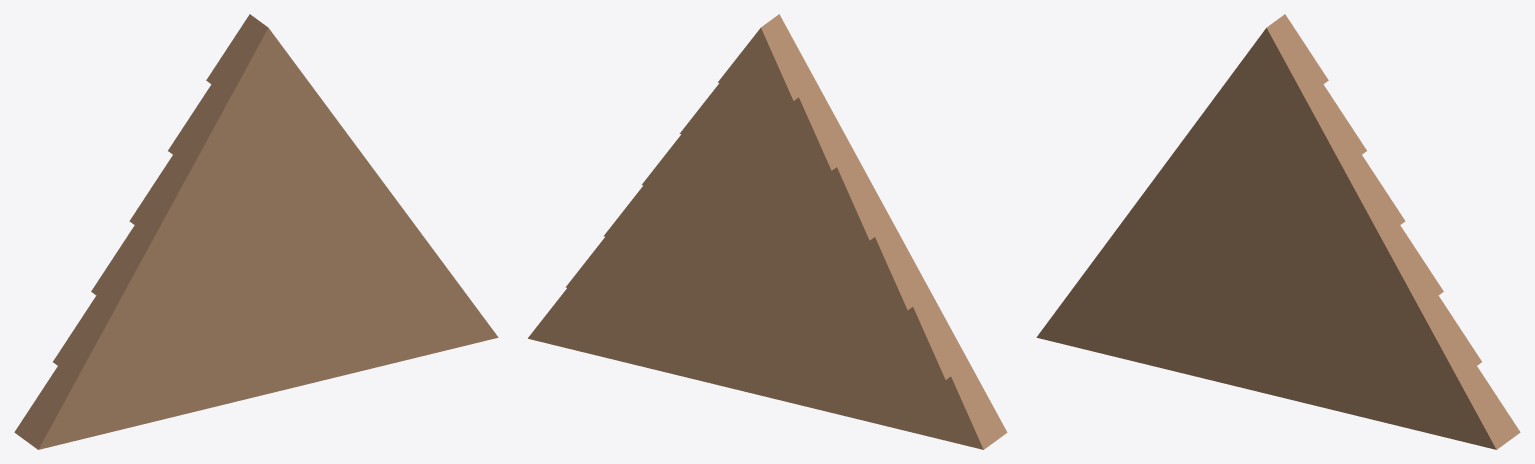
The model's file is cabinSideCenter.glb.
3 renders of one model, left to right at view 1: azimuth 30°, elevation 25°; view 2: azimuth 150°, elevation 25°; view 3: azimuth 330°, elevation 25°, orthographic.
Parts seen in each view (by area): view 1: cabinSideCenter; view 2: cabinSideCenter; view 3: cabinSideCenter.
Part boxes in pixels (box(x1,y1,x2,y2)): cabinSideCenter: box(14, 14, 498, 449); cabinSideCenter: box(528, 14, 1007, 449); cabinSideCenter: box(1036, 14, 1520, 449).
Bounding box in the file's own units: 1 × 0.76 × 0.0902.
